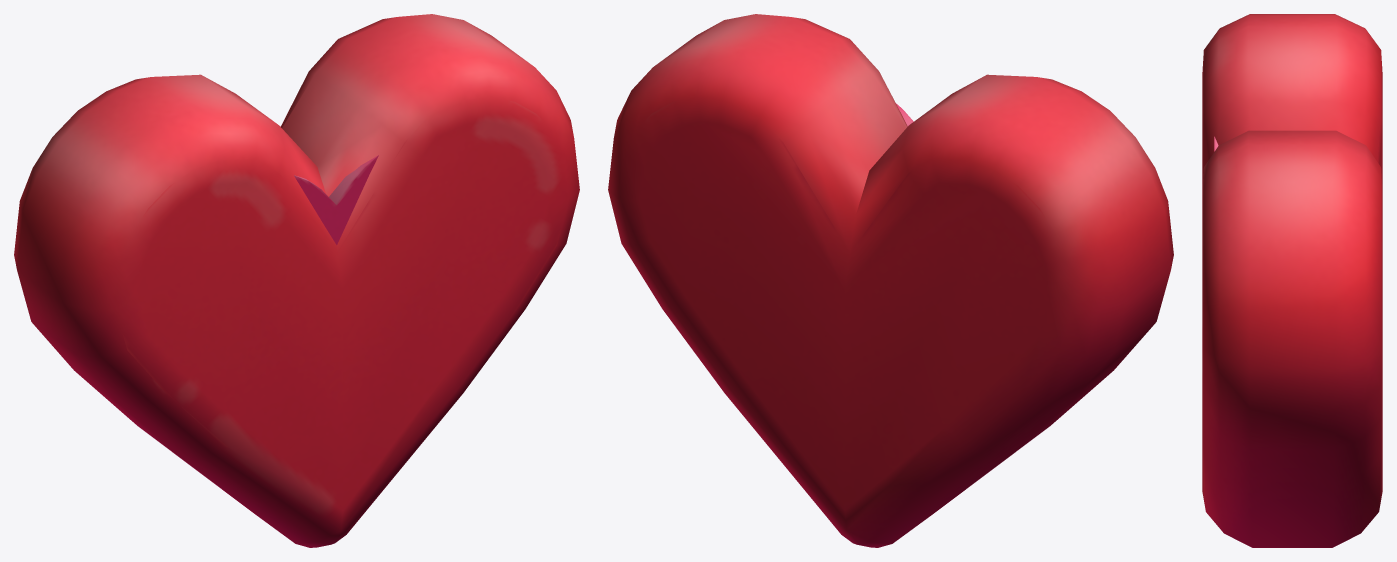
The model's file is Heart.fbx.
3 renders of one model, left to right at view 1: azimuth 30°, elevation 25°; view 2: azimuth 150°, elevation 25°; view 3: azimuth 270°, elevation 25°, orthographic. The views are drawn at different scales.
Parts seen in each view (by area): view 1: Heart, Heart-2; view 2: Heart; view 3: Heart.
Part boxes in pixels (bbox=[...]): Heart: bbox=[14, 14, 579, 547]; Heart-2: bbox=[294, 155, 378, 244]; Heart: bbox=[608, 14, 1173, 547]; Heart: bbox=[1202, 14, 1382, 547].
Size of the model in its own units: 1.15 by 1 by 0.3566.
